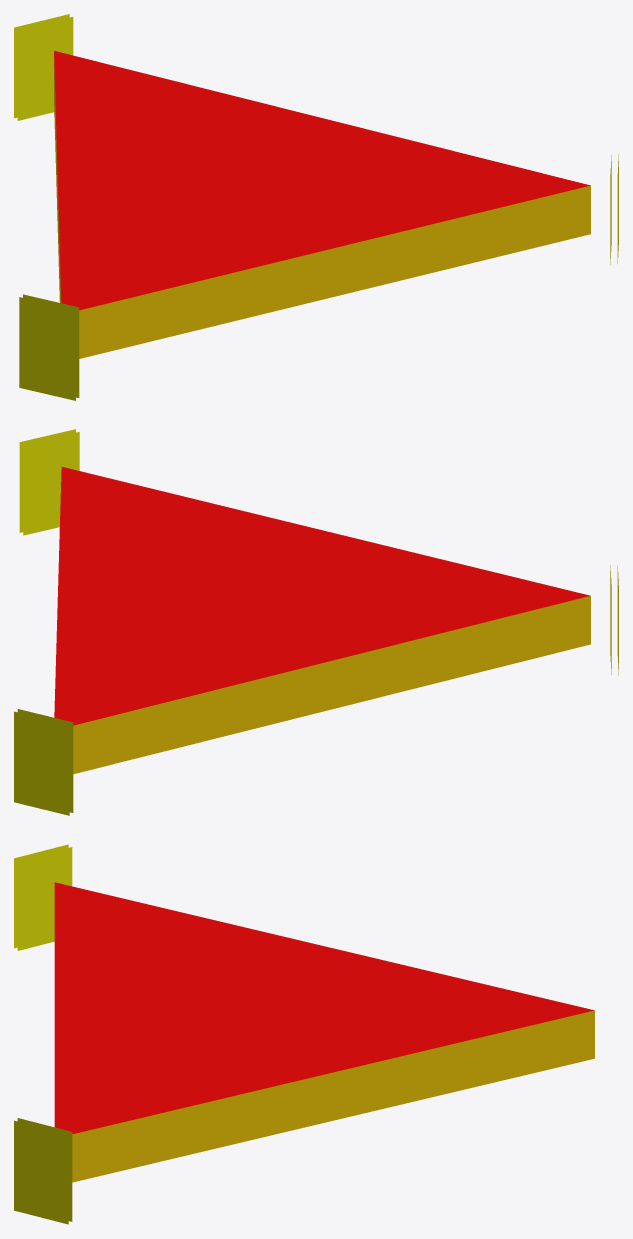
Rendered from Indicator.fbx.
3 renders of one model, top to bottom at view 1: azimuth 30°, elevation 25°; view 2: azimuth 150°, elevation 25°; view 3: azimuth 270°, elevation 25°, orthographic.
Parts seen in each view (by area): view 1: pCube1, pPlane4, pPlane1, pPlane2 (×2); view 2: pCube1, pPlane2 (×2), pPlane1, pPlane3; view 3: pCube1, pPlane3, pPlane2 (×2), pPlane4.
Part boxes in pixels (<box>): pCube1: <box>54,51,590,358</box>; pPlane4: <box>19,297,75,400</box>; pPlane1: <box>17,17,73,120</box>; pPlane2 (×2): <box>14,14,79,397</box>; pCube1: <box>54,467,590,774</box>; pPlane2 (×2): <box>14,432,79,815</box>; pPlane1: <box>17,709,73,812</box>; pPlane3: <box>19,429,75,532</box>; pCube1: <box>54,882,594,1182</box>; pPlane3: <box>14,1120,68,1224</box>; pPlane2 (×2): <box>17,847,72,1221</box>; pPlane4: <box>14,844,68,948</box>.
Size of the model in its own units: 1.13 by 0.1639 by 0.9977.
